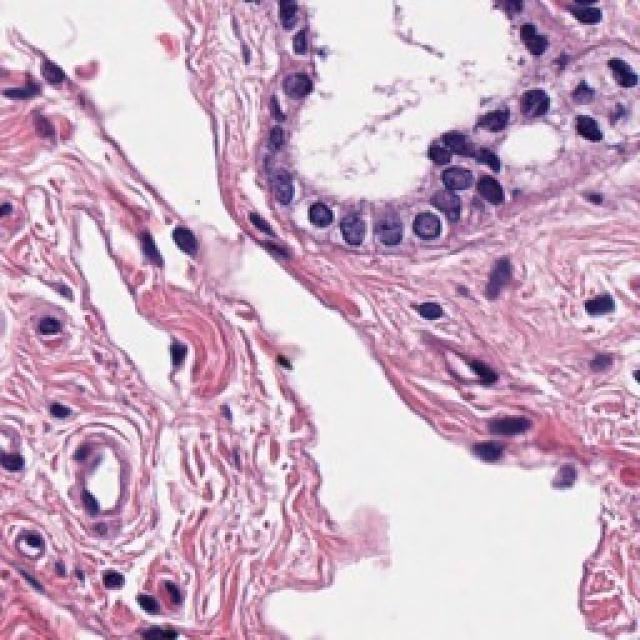normal: (493, 0, 565, 76), (239, 120, 311, 184), (365, 181, 414, 269), (294, 178, 343, 258), (334, 192, 378, 274), (266, 55, 322, 116), (555, 0, 621, 51), (466, 168, 529, 218)
